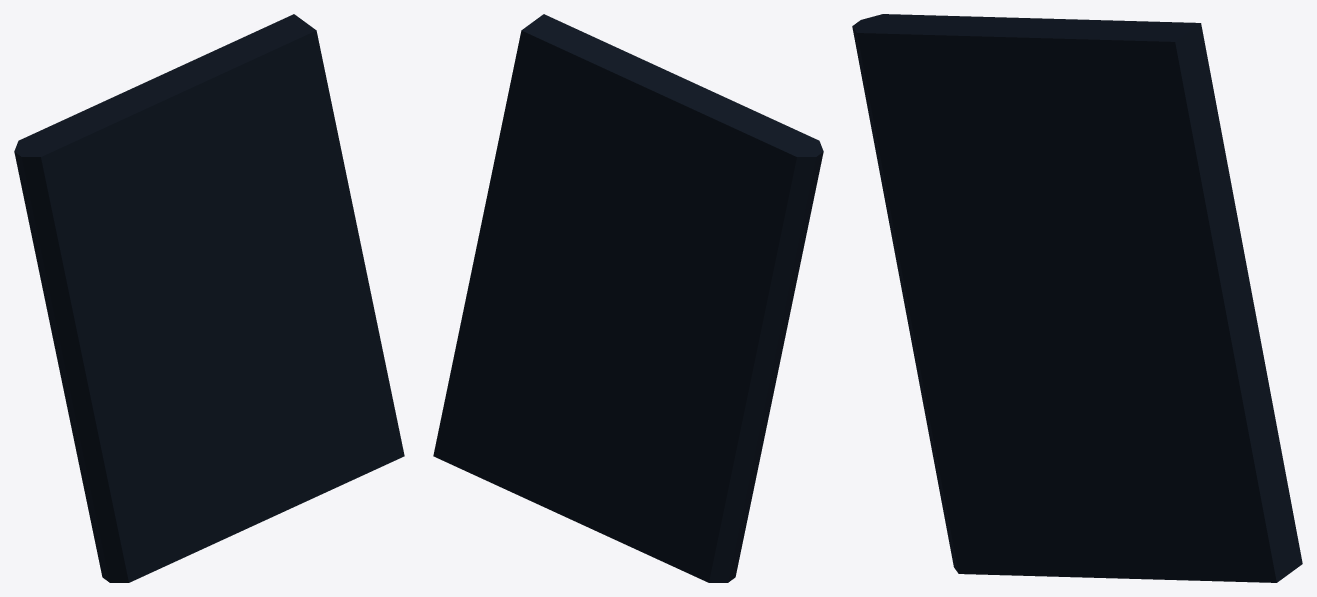
The model's file is pvp.fbx.
3 renders of one model, left to right at view 1: azimuth 30°, elevation 25°; view 2: azimuth 150°, elevation 25°; view 3: azimuth 330°, elevation 25°, orthographic. The views are drawn at different scales.
Parts seen in each view (by area): view 1: pvp; view 2: pvp; view 3: pvp.
Boxes of the visible parts, x1=… form: pvp: x1=14, y1=14, x2=404, y2=582; pvp: x1=433, y1=14, x2=823, y2=582; pvp: x1=852, y1=14, x2=1302, y2=582.
Bounding box in the file's own units: 59.33 × 76.9 × 6.14.
